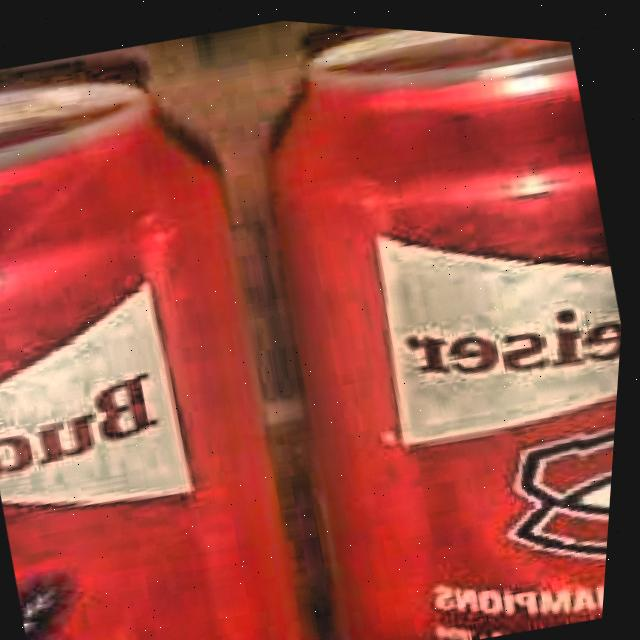metal: (264, 23, 625, 640), (0, 79, 310, 640)
